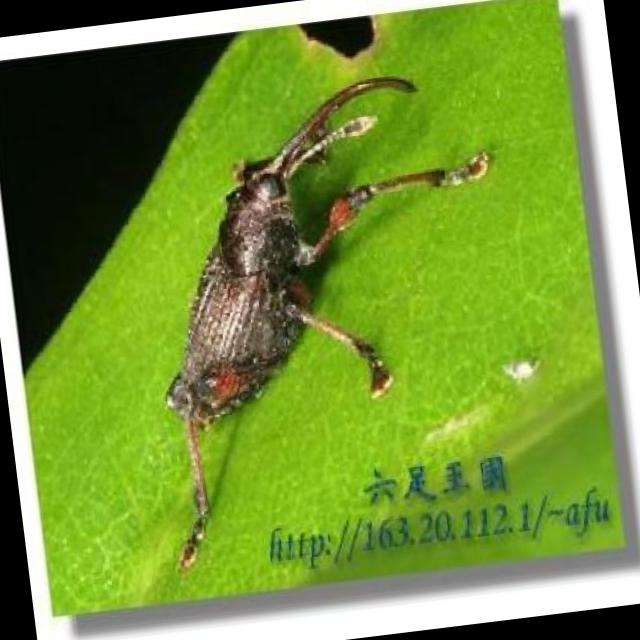rice-bug: (164, 76, 492, 569)
